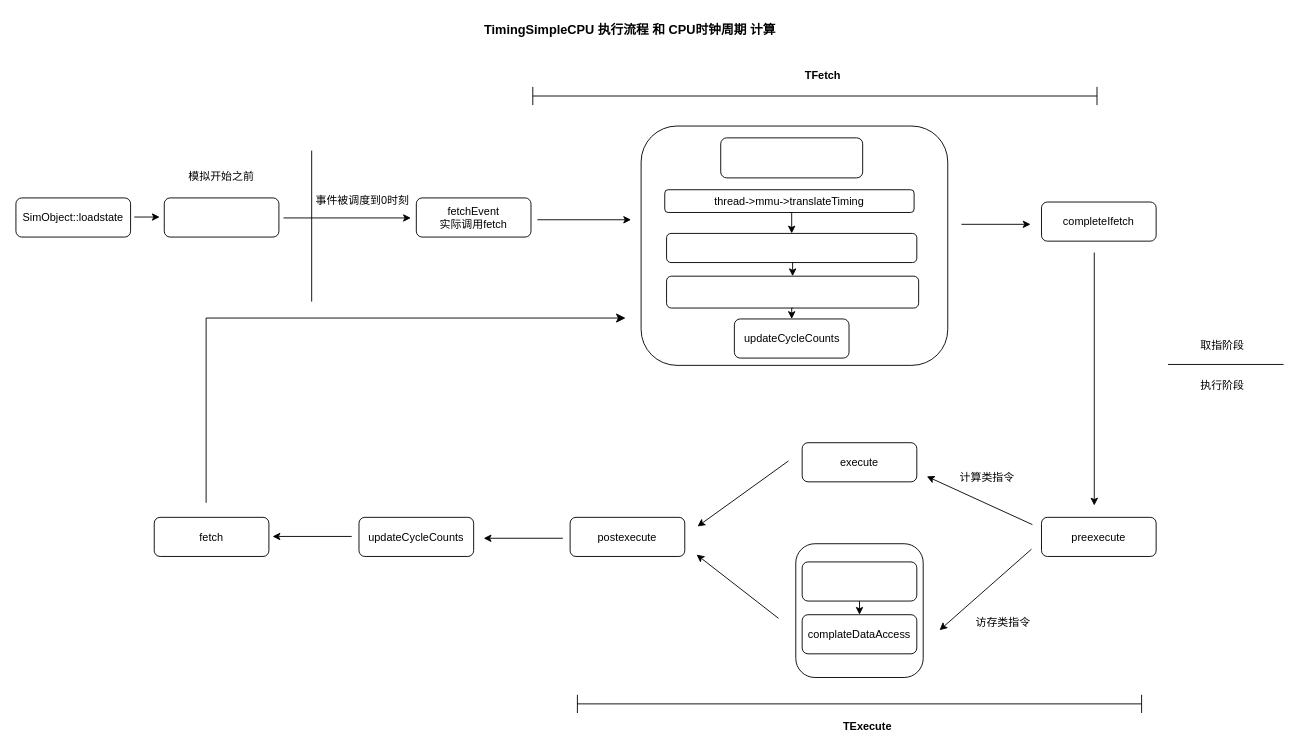
The diagram is 1300 pixels wide and 755 high, and some of its shapes have lost their labels. The centre of each missing label's shape, as x and y in pixels:
gem5::TimingSimpleCPU::FetchTranslation::finish: the point at 791,248
ICachePort发送取指请求: the point at 791,157
initiateAcc: the point at 859,581
TimingSimpleCPU:: activeContext: the point at 221,217
TimingSimpleCPU::sendFetch: the point at 792,291
